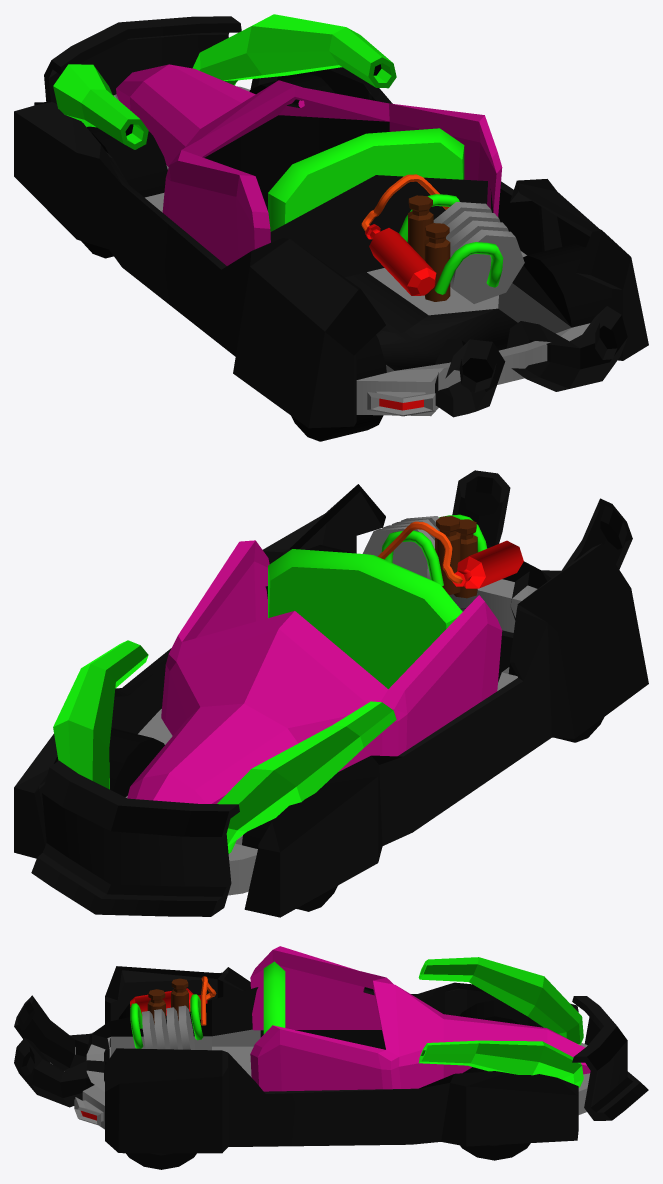
Rendered from car-parsche-sport-green_12.fbx.
The picture shows the model from 3 angles, top to bottom: view 1: azimuth 30°, elevation 25°; view 2: azimuth 150°, elevation 25°; view 3: azimuth 270°, elevation 25°; orthographic projection. The views are drawn at different scales.
Parts seen in each view (by area): view 1: car-parsche-sport-green_12, wheel_4, wheel_1, wheel_3, wheel_2; view 2: car-parsche-sport-green_12, wheel_2, wheel_1; view 3: car-parsche-sport-green_12, wheel_1, wheel_2, wheel_4.
Part boxes in pixels (left/top/right/bottom): car-parsche-sport-green_12: left=14, top=14, right=648, bottom=428; wheel_4: left=523, top=243, right=612, bottom=327; wheel_1: left=81, top=126, right=167, bottom=258; wheel_3: left=291, top=335, right=386, bottom=441; wheel_2: left=249, top=73, right=334, bottom=94; car-parsche-sport-green_12: left=14, top=470, right=648, bottom=917; wheel_2: left=109, top=728, right=164, bottom=797; wheel_1: left=242, top=818, right=337, bottom=911; car-parsche-sport-green_12: left=14, top=946, right=648, bottom=1153; wheel_1: left=459, top=1000, right=536, bottom=1026; wheel_2: left=460, top=1067, right=530, bottom=1160; wheel_4: left=126, top=1153, right=196, bottom=1169.
Bounding box in the file's own units: 1.26 × 2.93 × 0.7376.
